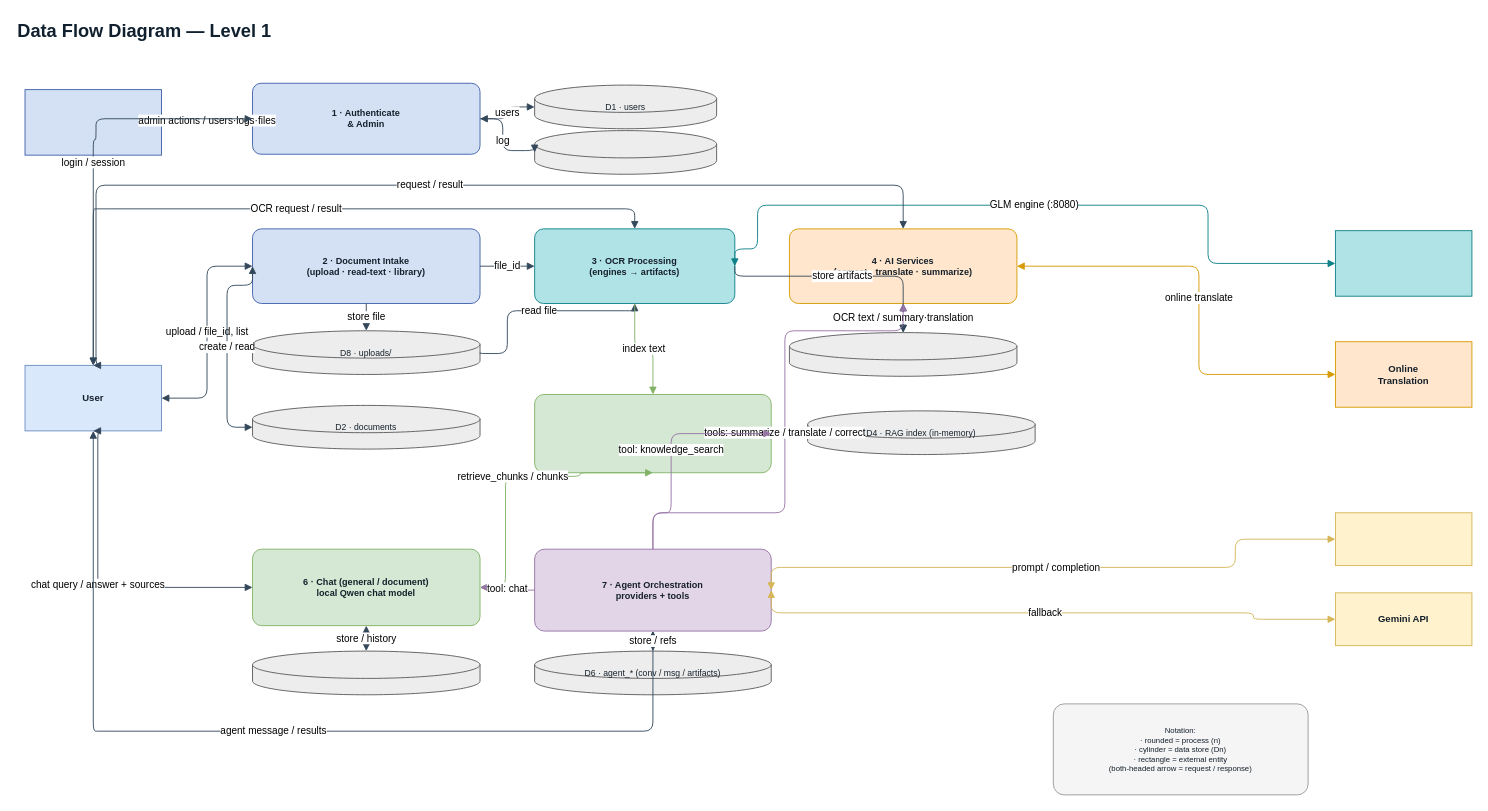
Image size: 1488x811. Some labels were removed from this diagram. Each missing label, with the centre of its shape:
"5 · RAG Index & Retrieval" belongs at point 652,433.
"Admin" belongs at point 93,122.
"D3 · document_artifacts" belongs at point 903,354.
"D5 · chat_conversations / messages" belongs at point 366,672.
"D7 · activity_logs" belongs at point 625,152.
"GLM-OCR MLX :8080" belongs at point 1403,263.
"Groq API" belongs at point 1403,539.
